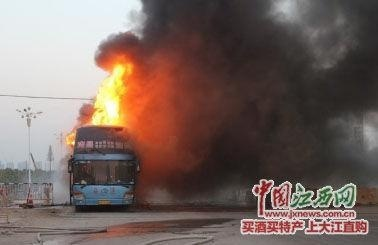fire: (76, 57, 136, 130)
